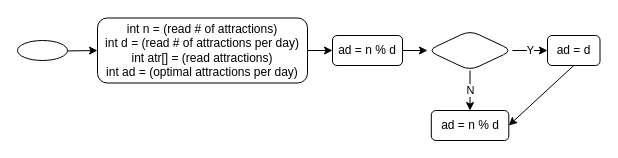
The diagram is 618 pixels wide and 158 high, and some of its shapes have lost their labels. The shapes that lost their labels are listed below. From the top down, each one's centre as x and y in pixels, then its label:
At pixel 42 50: "start".
At pixel 469 50: "ad % d ==0".
